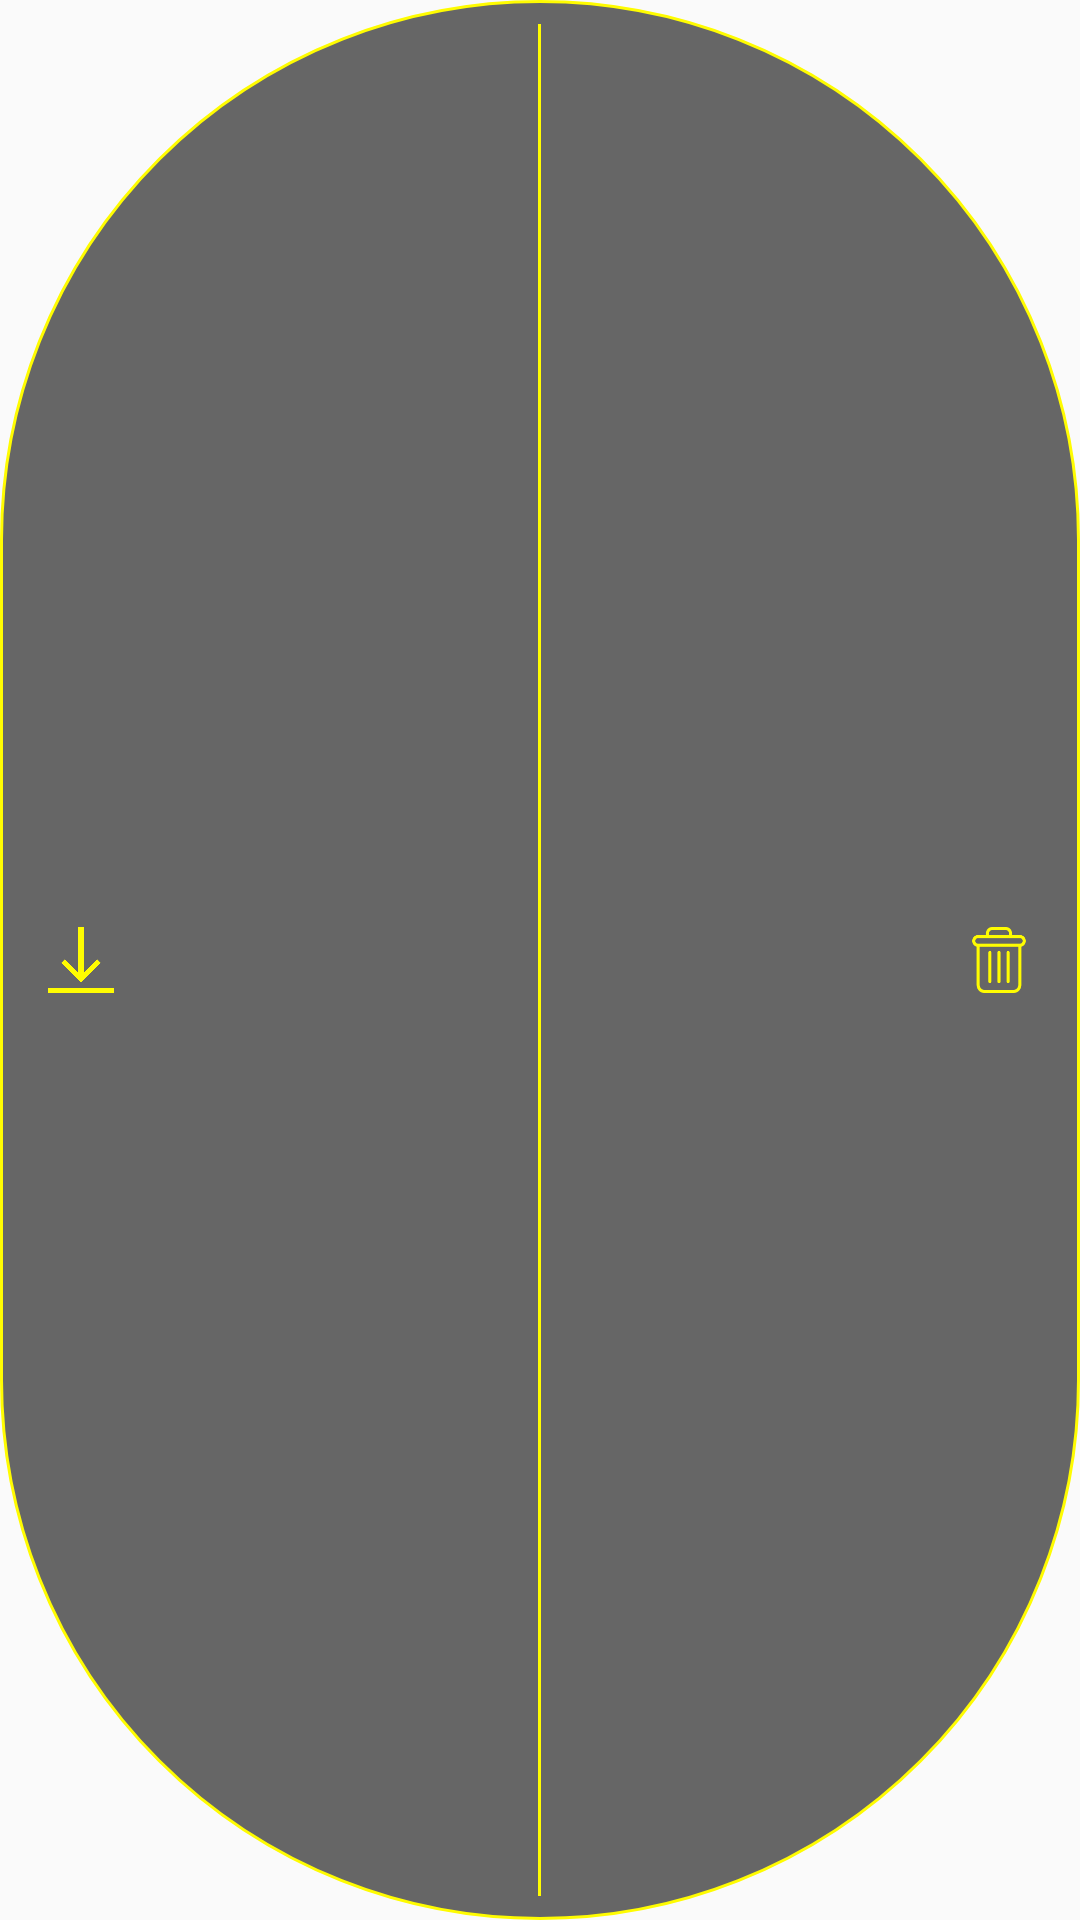

Screen size 1080px x 1920px. Icon name, then its box in pixels as (x1, y1, x2, y2):
delete: (972, 927, 1026, 993)
download: (48, 927, 114, 993)
